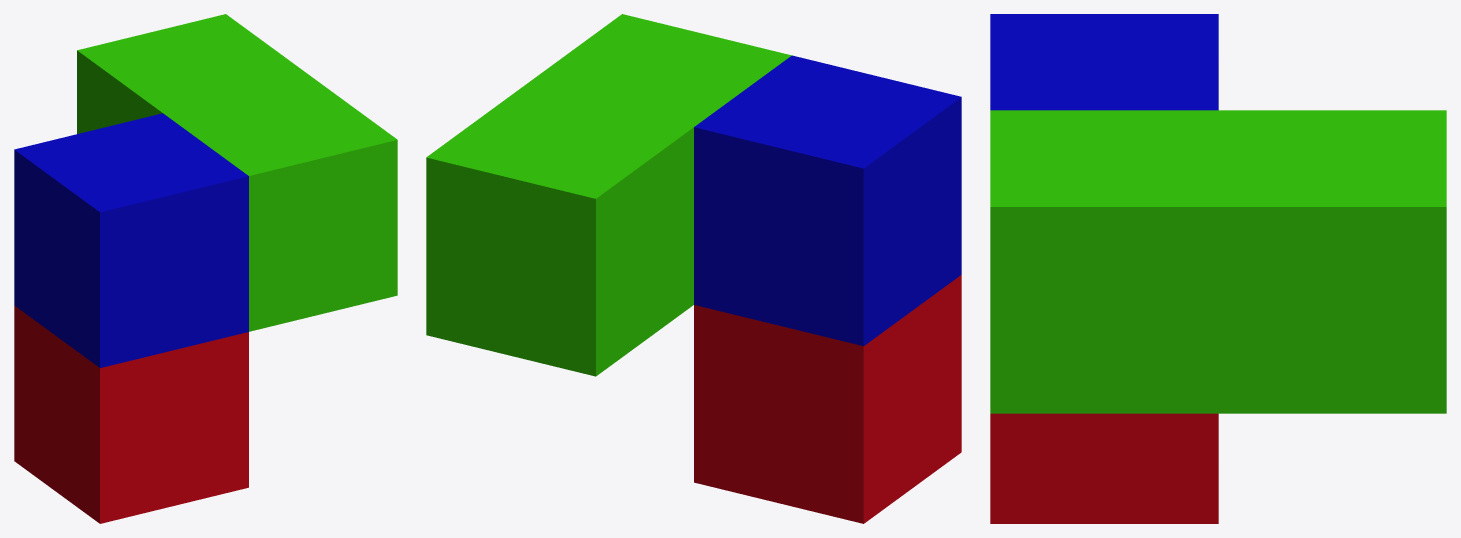
Rendered from blocks.dae.
3 views of the same model, side by side, from view 1: azimuth 30°, elevation 25°; view 2: azimuth 150°, elevation 25°; view 3: azimuth 270°, elevation 25° (orthographic). The views are drawn at different scales.
Parts seen in each view (by area): view 1: arm2, arm1, base; view 2: arm2, arm1, base; view 3: arm2, base, arm1.
Part boxes in pixels (bbox=[...]): arm2: bbox=[77, 14, 397, 331]; arm1: bbox=[14, 113, 248, 367]; base: bbox=[14, 305, 248, 523]; arm2: bbox=[426, 14, 791, 376]; arm1: bbox=[694, 55, 961, 346]; base: bbox=[694, 275, 961, 523]; arm2: bbox=[990, 110, 1446, 413]; base: bbox=[990, 413, 1218, 523]; arm1: bbox=[990, 14, 1218, 110].
Size of the model in its own units: 4000 by 4000 by 4000.
